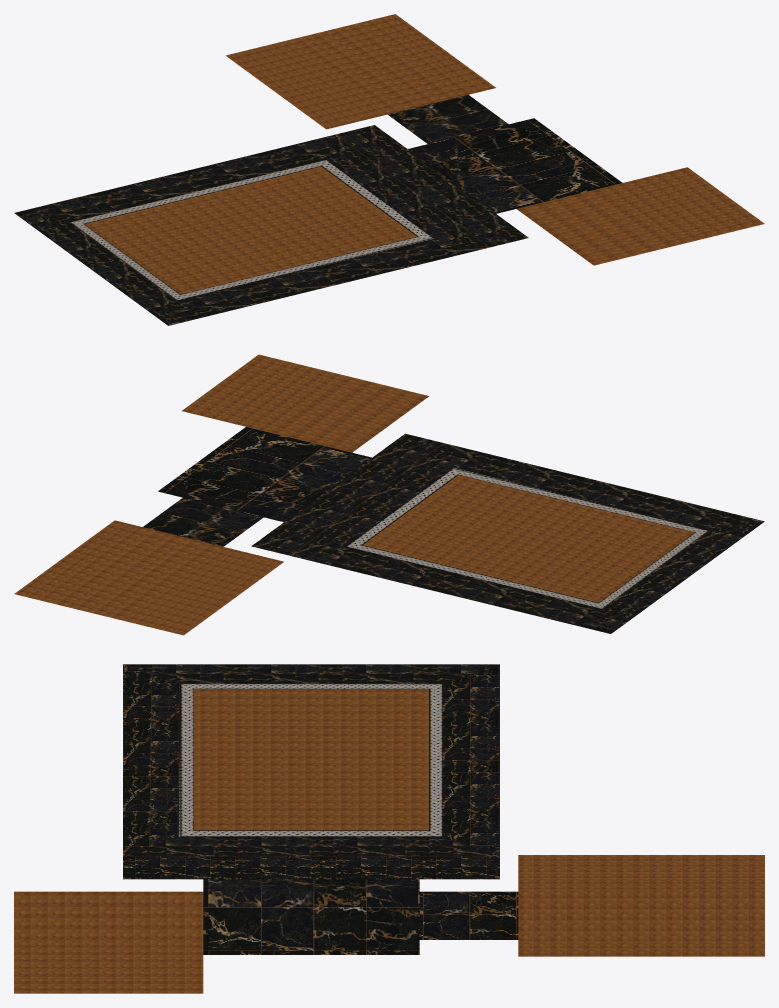
Rendered from DiningRoomFloor.fbx.
3 renders of one model, top to bottom at view 1: azimuth 30°, elevation 25°; view 2: azimuth 150°, elevation 25°; view 3: azimuth 270°, elevation 25°, orthographic. The views are drawn at different scales.
Visible parts, largest first — view 1: FloorPiece; view 2: FloorPiece; view 3: FloorPiece.
Boxes of the visible parts, x1=… form: FloorPiece: x1=14, y1=14, x2=764, y2=325; FloorPiece: x1=14, y1=354, x2=764, y2=635; FloorPiece: x1=14, y1=664, x2=764, y2=993.
Size of what is drawn, in the model's own units: 985 by 0.000155 by 950.
